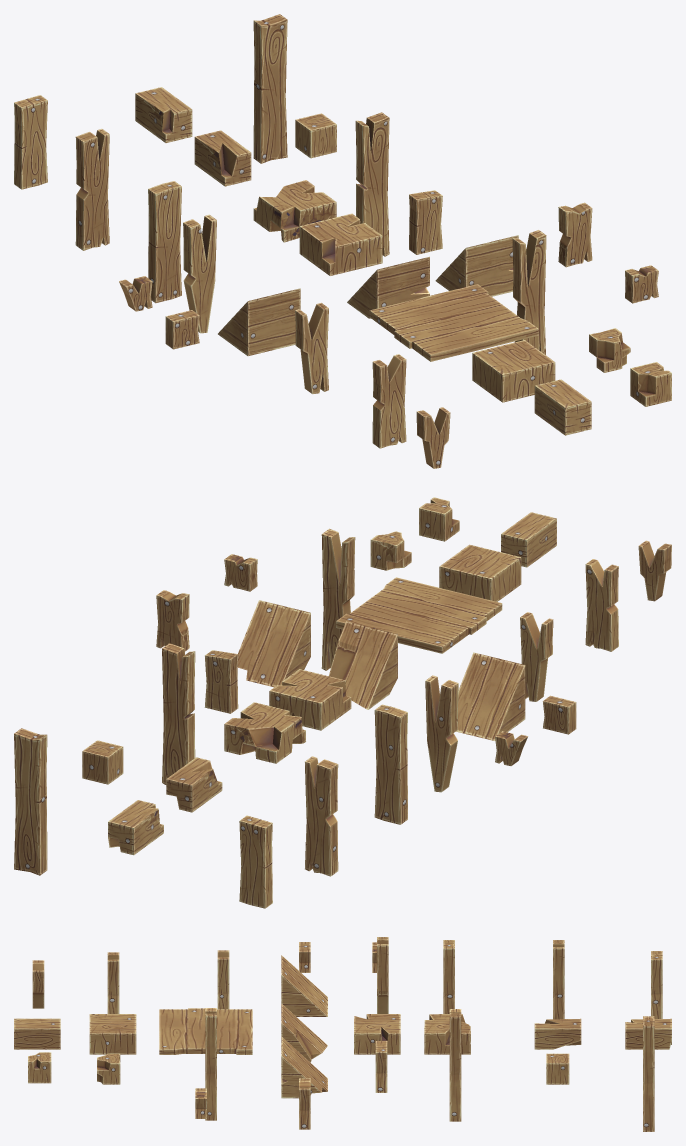
Rendered from wood_is_from_angry_birds_isle_of_pigs.glb.
The picture shows the model from 3 angles, top to bottom: view 1: azimuth 30°, elevation 25°; view 2: azimuth 150°, elevation 25°; view 3: azimuth 270°, elevation 25°; orthographic projection. The views are drawn at different scales.
Visible parts, largest first — view 1: Wood_Platform_8x1x8_Geo, Wood_Long_2x10x1_Whole_Geo, Wood_Square_4x2x4_HalfBroken_Geo, Wood_Long_2x10x1_Halfbroken_Geo, Wood_Long_2x8x1_Whole_Geo, Wood_Long_2x8x1_Halfbroken_Geo, Wood_Square_4x2x4_Whole_Geo, Wood_Ramp_4x4x4_Whole_Geo, Wood_Square_4x2x4_Broken_Geo, Wood_Long_2x10x1_Broken_Geo, Wood_Long_2x8x1_Broken_Geo, Wood_Ramp_4x4x4_HalfBroken_Geo (+16 smaller); view 2: Wood_Platform_8x1x8_Geo, Wood_Ramp_4x4x4_Whole_Geo, Wood_Ramp_4x4x4_HalfBroken_Geo, Wood_Long_2x10x1_Whole_Geo, Wood_Ramp_4x4x4_Broken_Geo, Wood_Long_2x10x1_Halfbroken_Geo, Wood_Long_2x8x1_Whole_Geo, Wood_Long_2x8x1_Halfbroken_Geo, Wood_Square_4x2x4_Broken_Geo, Wood_Square_4x2x4_Whole_Geo, Wood_Square_4x2x4_HalfBroken_Geo, Wood_Long_2x10x1_Broken_Geo (+16 smaller); view 3: Wood_Platform_8x1x8_Geo, Wood_Square_4x2x4_Whole_Geo, Wood_Ramp_4x4x4_Whole_Geo, Wood_Square_4x2x4_HalfBroken_Geo, Wood_Ramp_4x4x4_HalfBroken_Geo, Wood_Square_2x4x2_Whole_Geo, Wood_Long_2x10x1_Halfbroken_Geo, Wood_Long_2x10x1_Whole_Geo, Wood_Square_4x2x4_Broken_Geo, Wood_Square_2x4x2_Broken_Geo, Wood_Ramp_4x4x4_Broken_Geo, Wood_Long_2x10x1_Broken_Geo (+15 smaller).
Boxes of the visible parts, x1,y1,x2,y2 form: Wood_Platform_8x1x8_Geo: [369, 284, 538, 361]; Wood_Long_2x10x1_Whole_Geo: [253, 14, 287, 163]; Wood_Square_4x2x4_HalfBroken_Geo: [299, 213, 382, 275]; Wood_Long_2x10x1_Halfbroken_Geo: [355, 112, 389, 256]; Wood_Long_2x8x1_Whole_Geo: [148, 181, 181, 303]; Wood_Long_2x8x1_Halfbroken_Geo: [75, 128, 109, 250]; Wood_Square_4x2x4_Whole_Geo: [472, 340, 555, 402]; Wood_Ramp_4x4x4_Whole_Geo: [218, 288, 300, 356]; Wood_Square_4x2x4_Broken_Geo: [253, 180, 336, 242]; Wood_Long_2x10x1_Broken_Geo: [512, 230, 546, 354]; Wood_Long_2x8x1_Broken_Geo: [183, 214, 216, 333]; Wood_Ramp_4x4x4_HalfBroken_Geo: [435, 235, 518, 296]; Wood_Platform_8x1x8_Geo: [336, 577, 502, 653]; Wood_Ramp_4x4x4_Whole_Geo: [456, 652, 525, 741]; Wood_Ramp_4x4x4_HalfBroken_Geo: [237, 600, 310, 687]; Wood_Long_2x10x1_Whole_Geo: [14, 728, 47, 875]; Wood_Ramp_4x4x4_Broken_Geo: [329, 621, 397, 709]; Wood_Long_2x10x1_Halfbroken_Geo: [162, 643, 195, 784]; Wood_Long_2x8x1_Whole_Geo: [374, 704, 407, 824]; Wood_Long_2x8x1_Halfbroken_Geo: [305, 756, 338, 876]; Wood_Square_4x2x4_Broken_Geo: [224, 702, 305, 763]; Wood_Square_4x2x4_Whole_Geo: [439, 544, 521, 601]; Wood_Square_4x2x4_HalfBroken_Geo: [269, 669, 351, 730]; Wood_Long_2x10x1_Broken_Geo: [321, 528, 355, 670]; Wood_Platform_8x1x8_Geo: [159, 1008, 252, 1054]; Wood_Square_4x2x4_Whole_Geo: [89, 1014, 136, 1054]; Wood_Ramp_4x4x4_Whole_Geo: [281, 955, 327, 1016]; Wood_Square_4x2x4_HalfBroken_Geo: [354, 1014, 400, 1054]; Wood_Ramp_4x4x4_HalfBroken_Geo: [281, 1036, 327, 1098]; Wood_Square_2x4x2_Whole_Geo: [14, 1018, 60, 1049]; Wood_Long_2x10x1_Halfbroken_Geo: [449, 1009, 461, 1121]; Wood_Long_2x10x1_Whole_Geo: [643, 1016, 654, 1131]; Wood_Square_4x2x4_Broken_Geo: [424, 1014, 470, 1054]; Wood_Square_2x4x2_Broken_Geo: [534, 1018, 581, 1049]; Wood_Ramp_4x4x4_Broken_Geo: [281, 1003, 327, 1062]; Wood_Long_2x10x1_Broken_Geo: [205, 1008, 216, 1120].
Size of the model in its own units: 31.78 by 10 by 56.46.
28 materials, 28 textured.
